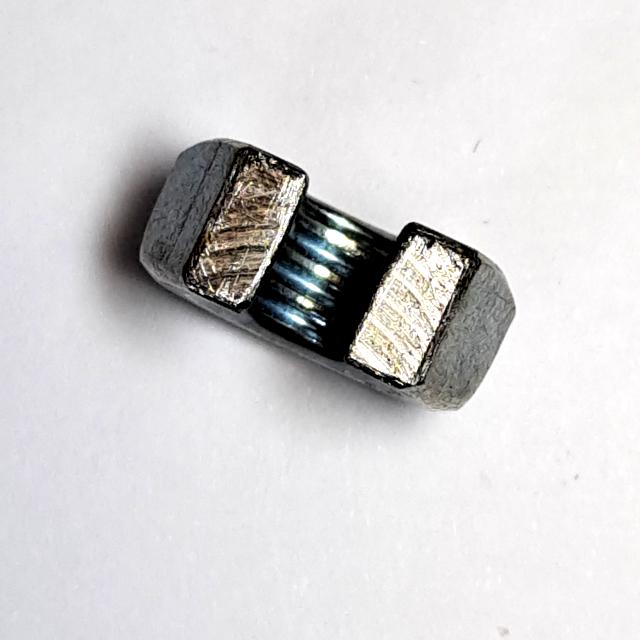Side-Fracture: (126, 120, 535, 426)
